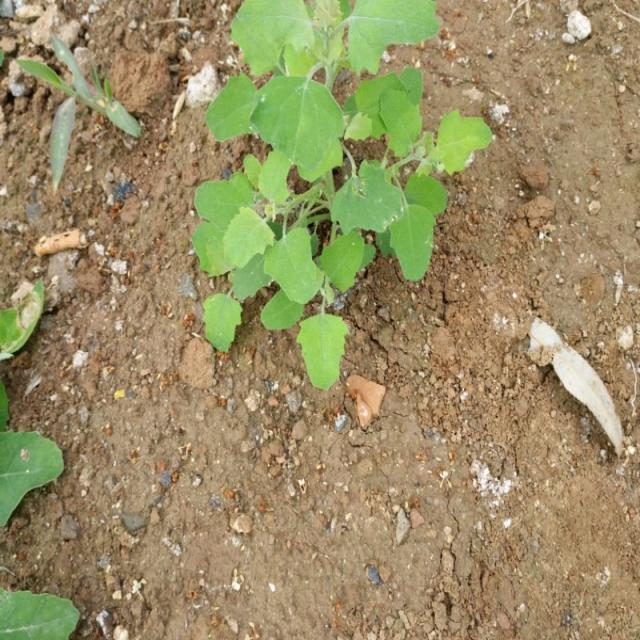ca: (190, 2, 493, 392)
